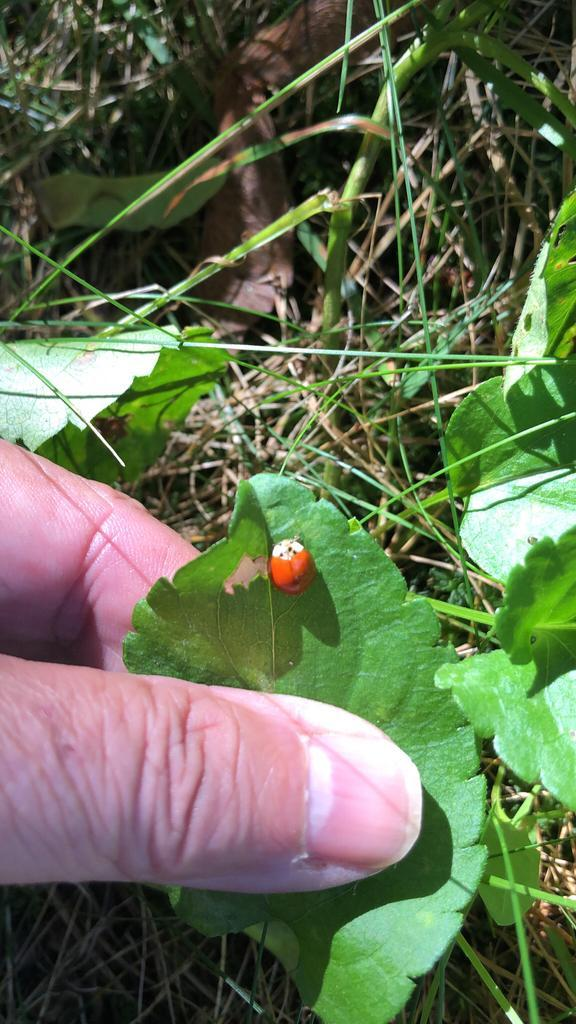ladybug: (267, 535, 321, 598)
